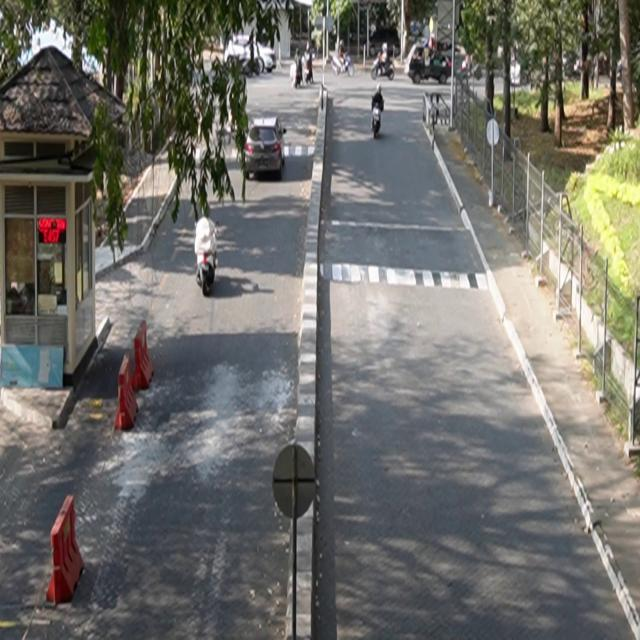car: (245, 117, 287, 181)
